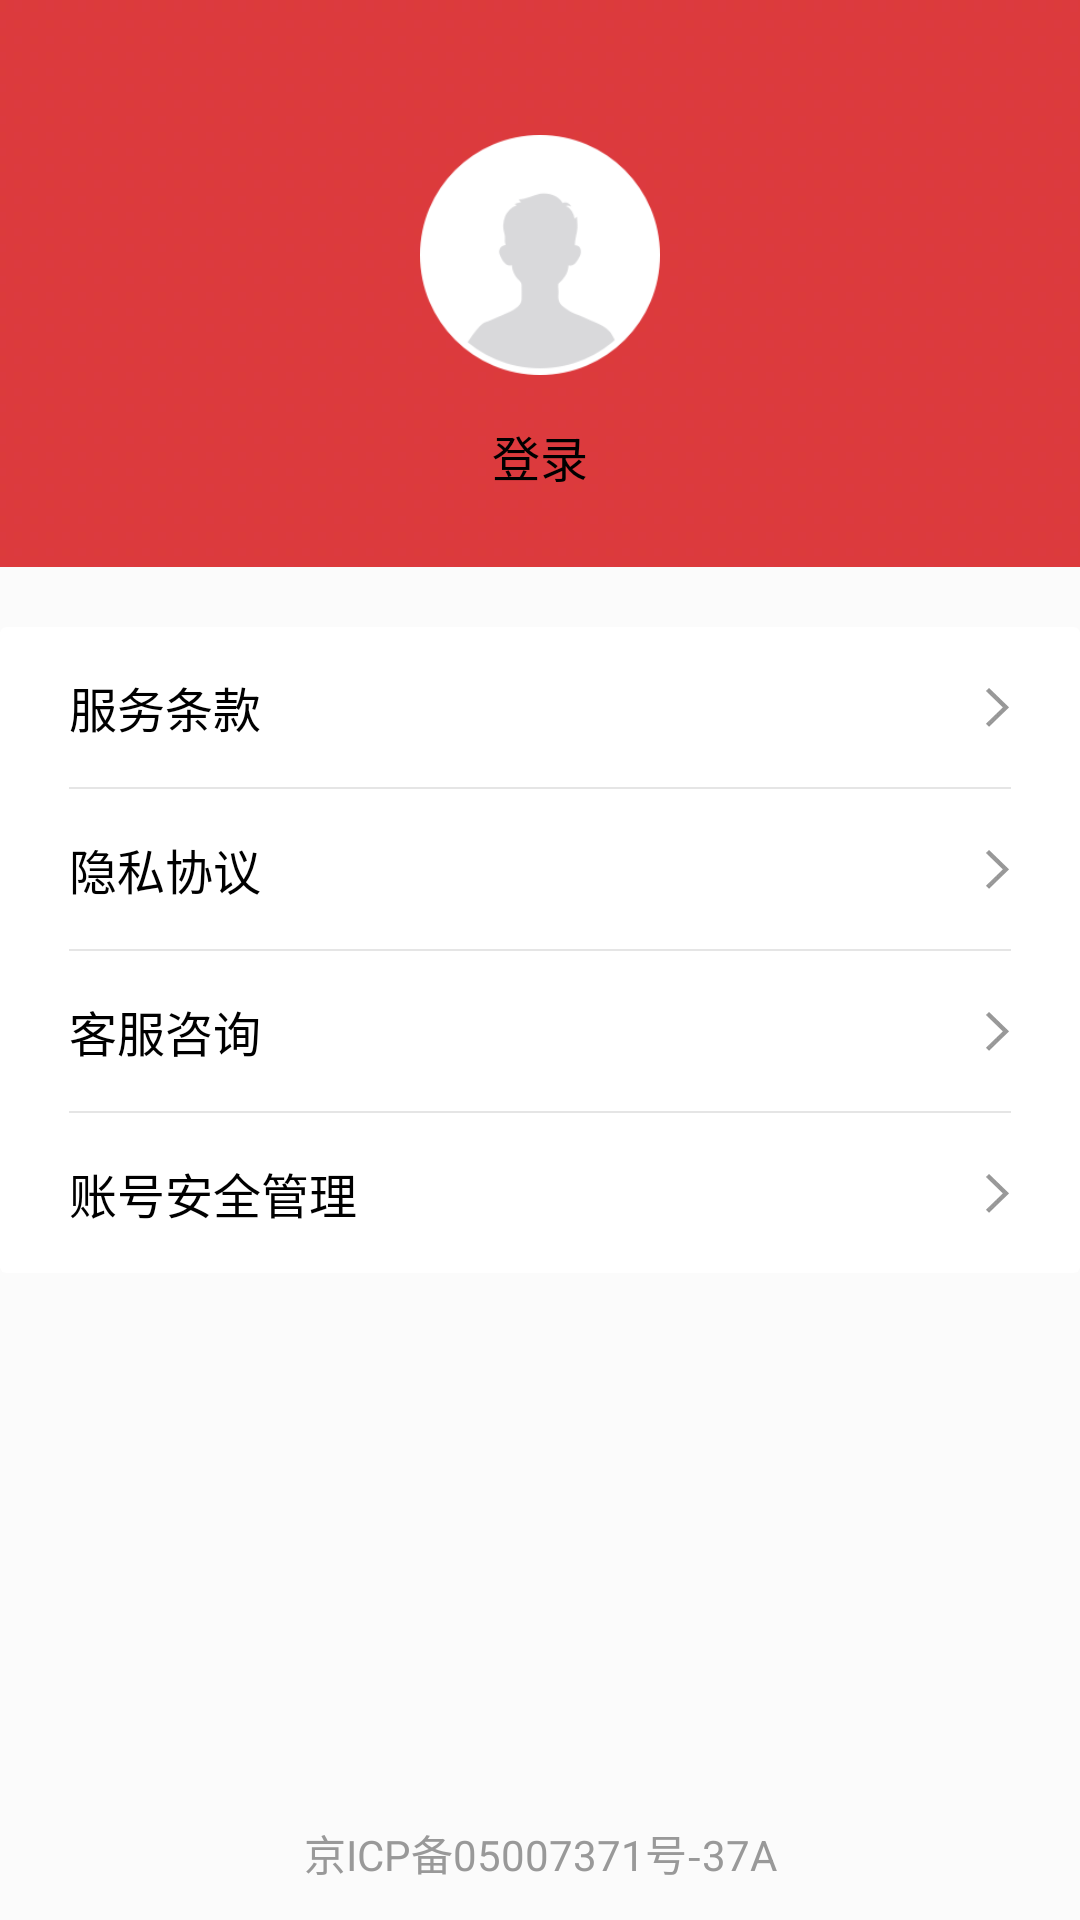

Where to tap for icons on this 1080w x 1920h app screen, as (x,y):
unlogin: (540,255)
